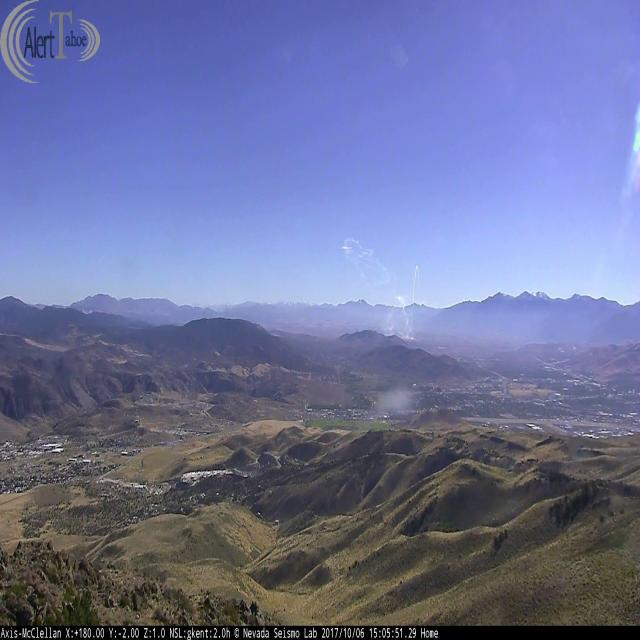smoke: (343, 237, 421, 343)
